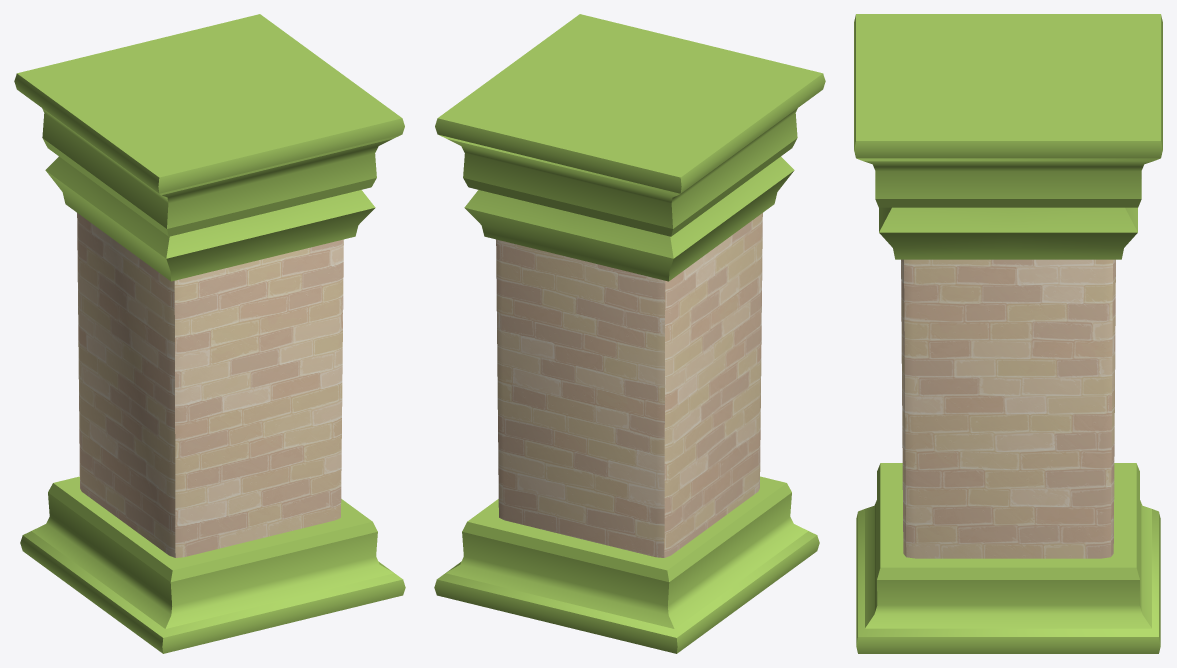
File: SM_pillar_module_03.fbx
The picture shows the model from 3 angles, left to right: view 1: azimuth 30°, elevation 25°; view 2: azimuth 150°, elevation 25°; view 3: azimuth 270°, elevation 25°; orthographic projection. The views are drawn at different scales.
Parts seen in each view (by area): view 1: Object33219; view 2: Object33219; view 3: Object33219.
Part boxes in pixels (bbox=[...]): Object33219: bbox=[14, 14, 405, 653]; Object33219: bbox=[434, 14, 825, 653]; Object33219: bbox=[854, 14, 1162, 653].
Bounding box in the file's own units: 48.01 × 88.4 × 48.29.
